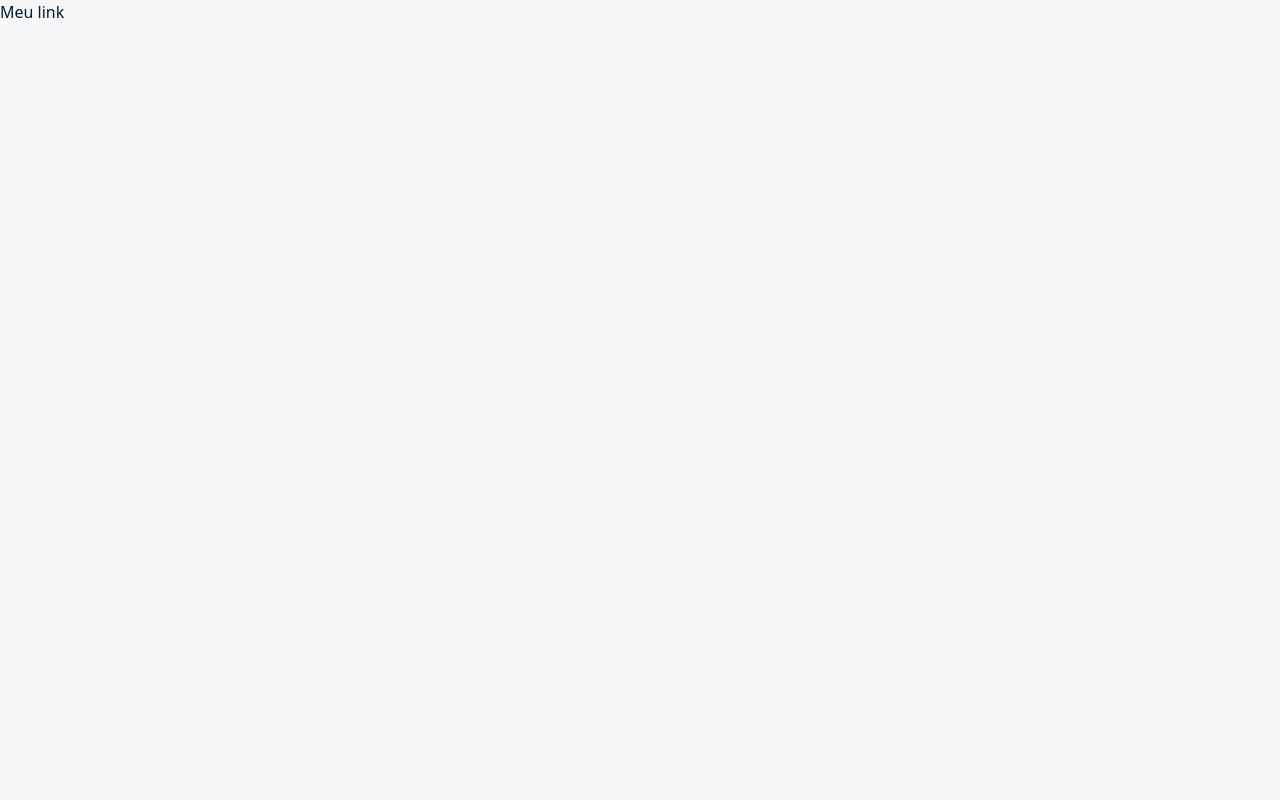
LinkAgendamentoDialog › desativar pede confirmação e tira só aquele link
Click the button "Meu link": {"x": 32, "y": 12} x1=0 y1=0 x2=64 y2=24
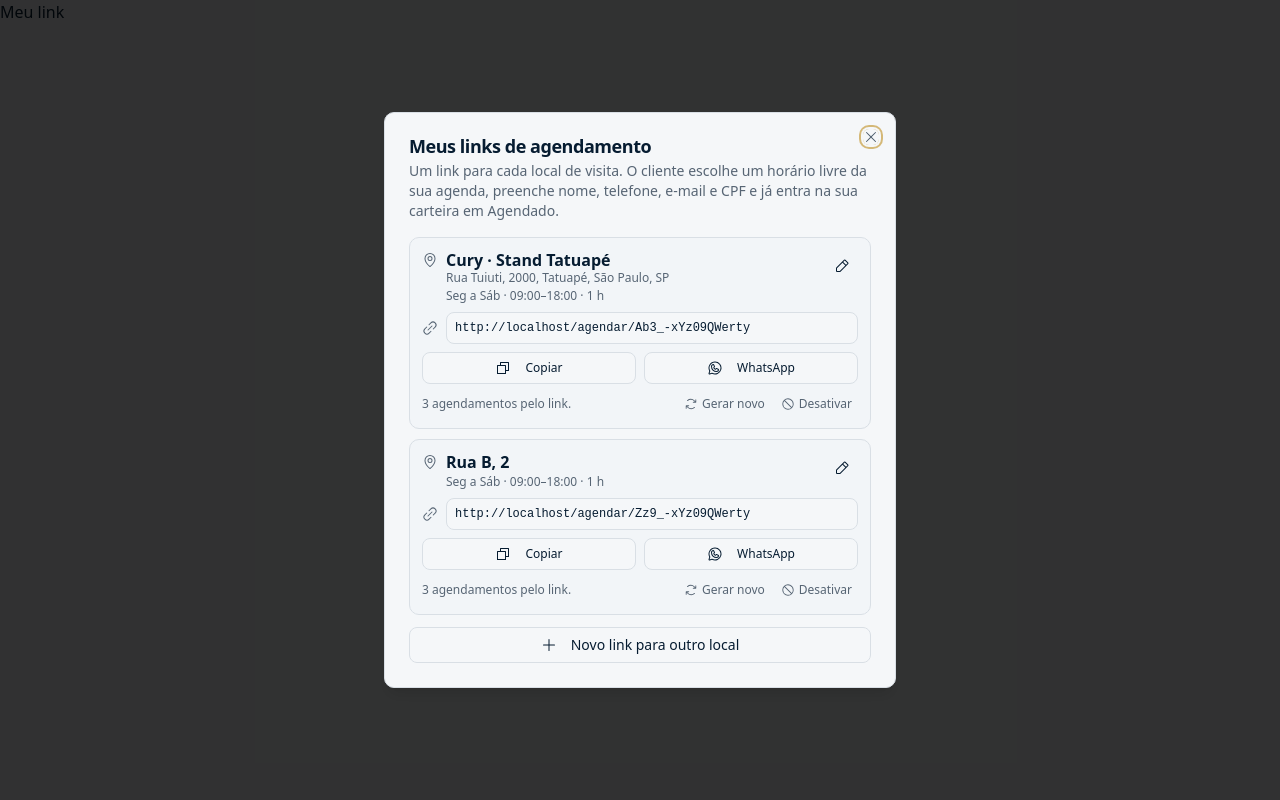
Click the button "Desativar" below "Cury · Stand Tatuapé": {"x": 816, "y": 404} x1=775 y1=392 x2=858 y2=416
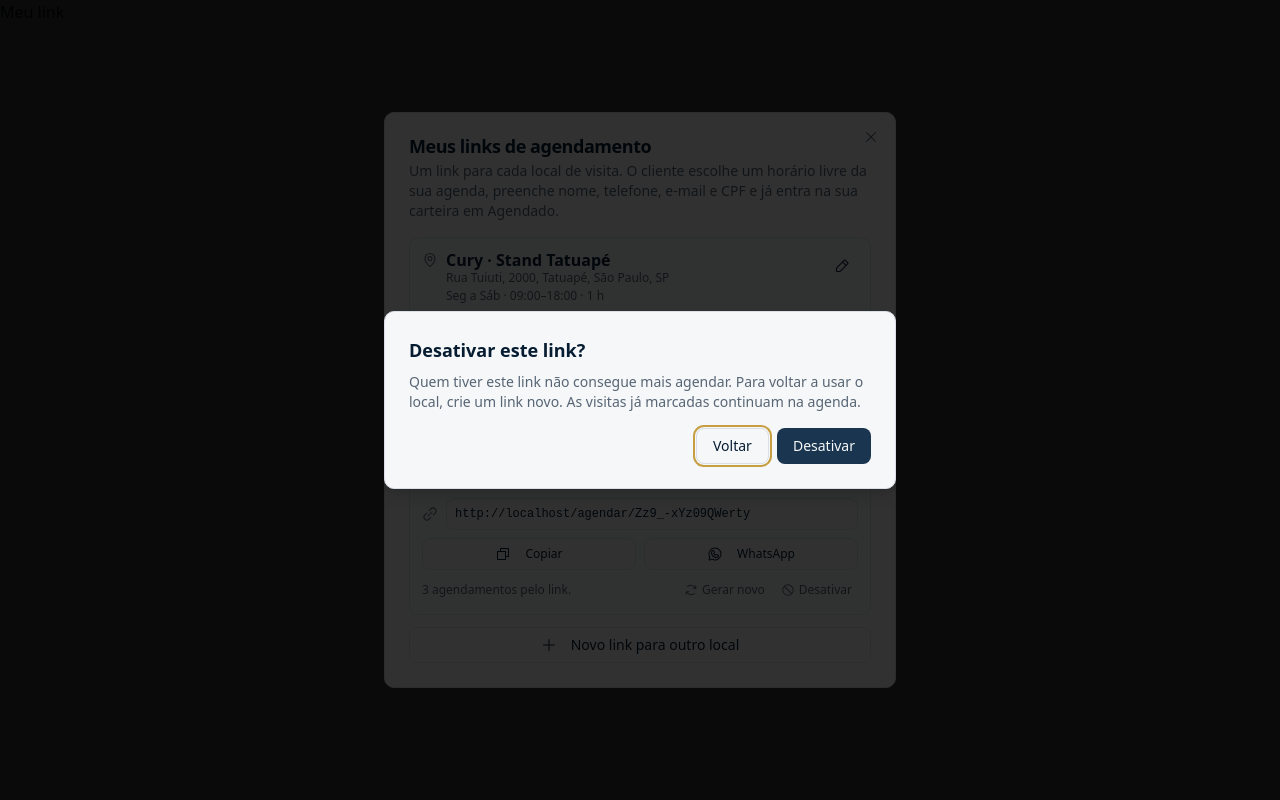
Click the button "Desativar": {"x": 824, "y": 446} x1=777 y1=428 x2=871 y2=464
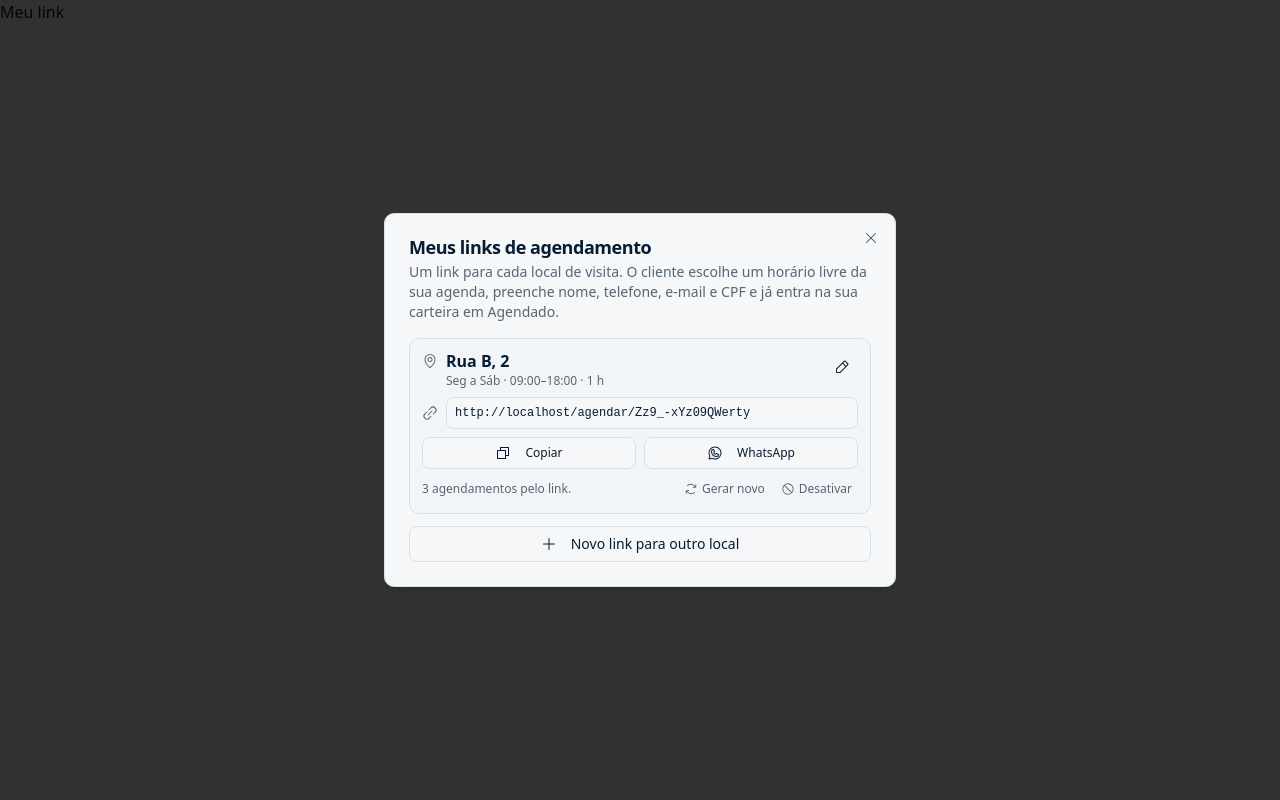
Expected: the list item "Rua B, 2" is shown, x1=409 y1=338 x2=871 y2=514
Expected: the text "Cury · Stand Tatuapé" is gone
